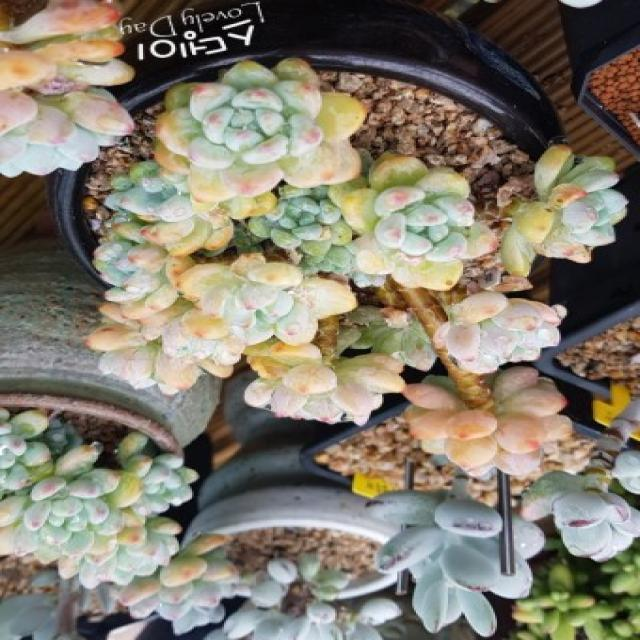LumiRose: (155, 59, 365, 202), (330, 153, 497, 291), (404, 367, 572, 476), (104, 161, 277, 256), (179, 253, 357, 345), (502, 146, 627, 276), (245, 342, 404, 425), (435, 292, 565, 374), (247, 186, 352, 256)
